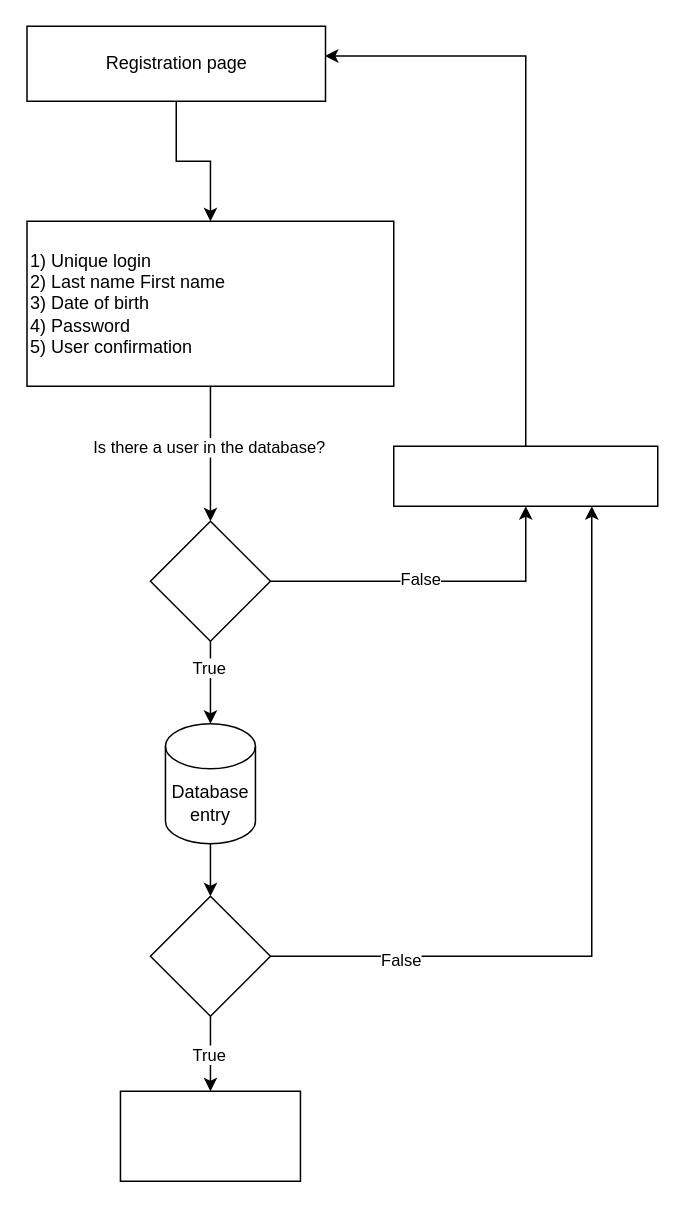
The diagram is 684 pixels wide and 1208 high, and some of its shapes have lost their labels. Each missing label, with the centre of its shape:
Error message: point (525, 475)
Message about successful user addition: point (209, 1135)
